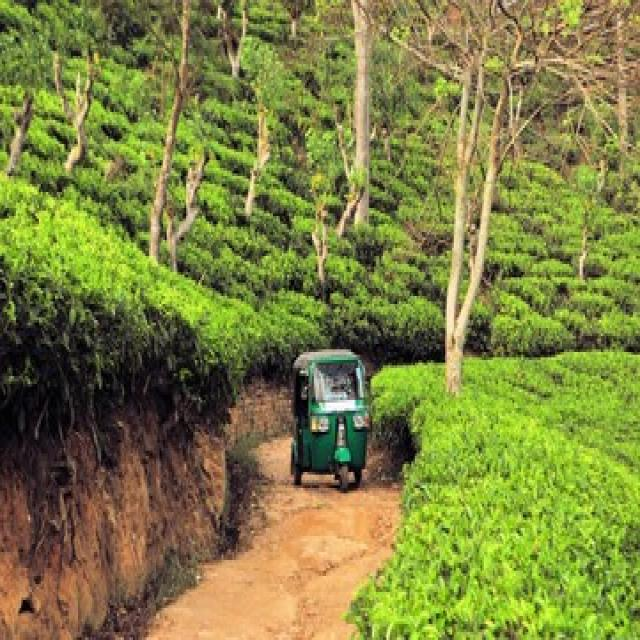three wheeler: (291, 349, 369, 491)
